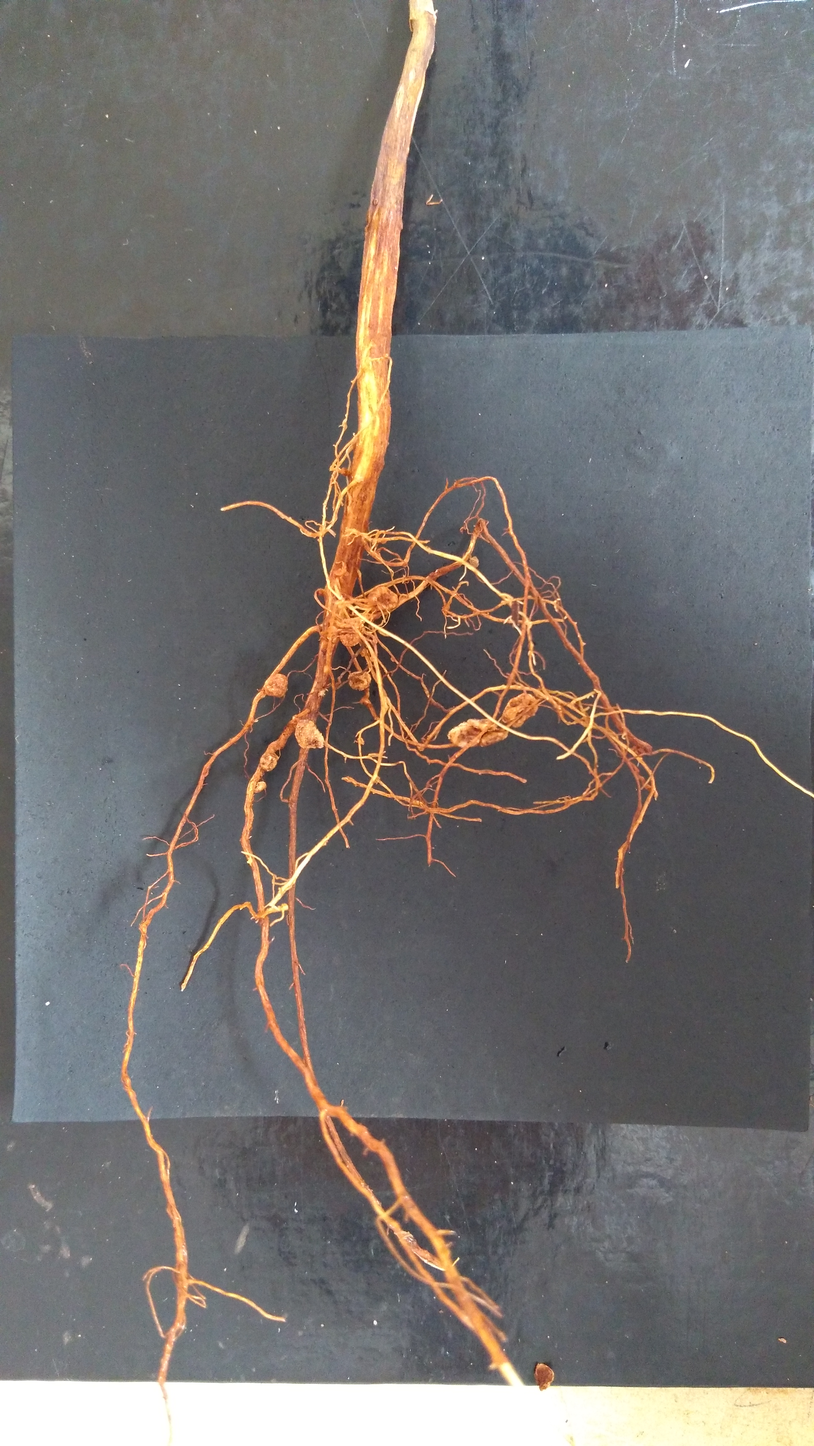nodule: (447, 718, 510, 747), (502, 692, 539, 728), (295, 719, 326, 750), (367, 585, 399, 612), (339, 617, 364, 646), (533, 1362, 555, 1391), (264, 672, 287, 697), (348, 670, 371, 691), (259, 751, 279, 772), (631, 745, 646, 758), (253, 781, 267, 794), (334, 568, 350, 577), (468, 555, 479, 568), (339, 466, 350, 478), (327, 625, 339, 635), (360, 646, 369, 657), (356, 737, 365, 746), (316, 588, 325, 595), (281, 903, 288, 911), (380, 537, 387, 544), (390, 656, 396, 662), (372, 639, 379, 643)
